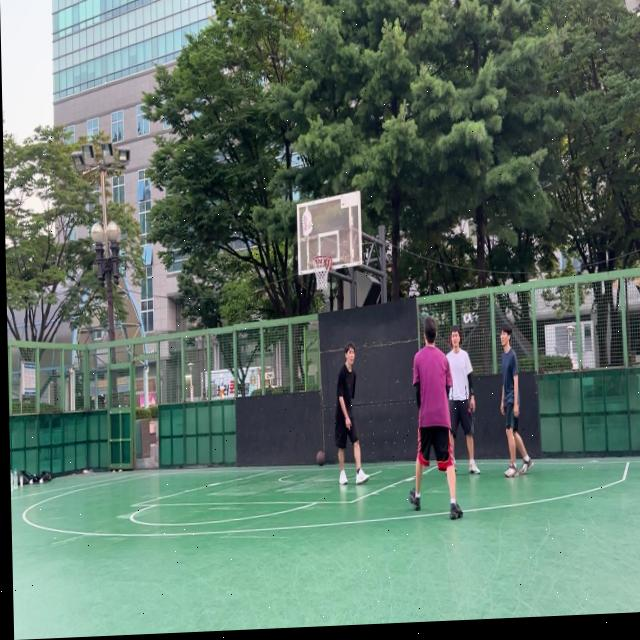basketball: (317, 450, 325, 467)
hoop: (312, 253, 333, 291)
